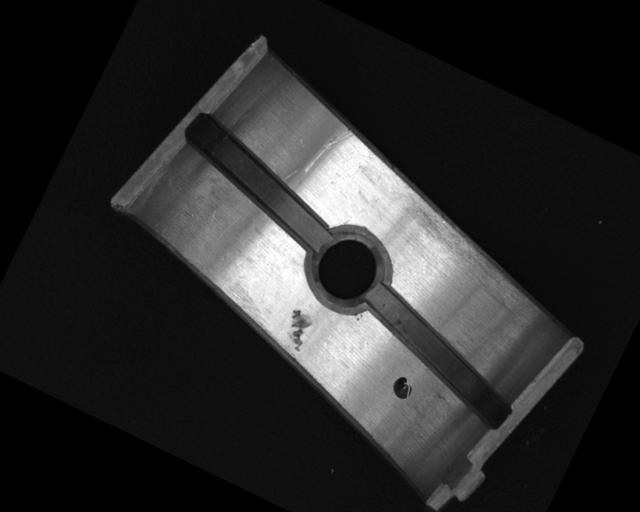blot: (388, 374, 416, 402)
bruise: (276, 306, 317, 353)
gap: (340, 279, 539, 433), (165, 110, 353, 254)
hole: (297, 216, 402, 318)
nick: (304, 117, 355, 183)
scratch: (375, 184, 551, 319)
